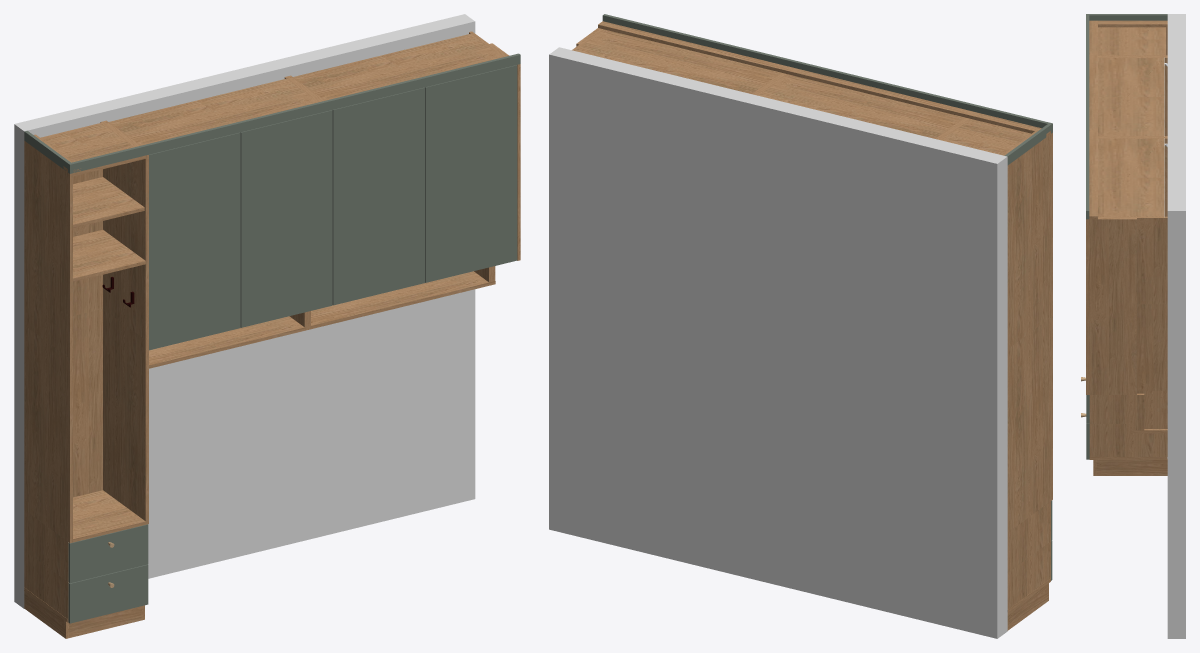
The model's file is AGYSZEK.glb.
3 renders of one model, left to right at view 1: azimuth 30°, elevation 25°; view 2: azimuth 150°, elevation 25°; view 3: azimuth 270°, elevation 25°, orthographic. The views are drawn at different scales.
Parts seen in each view (by area): view 1: 3DGeom-1, 3DGeom-55, 3DGeom-53, 3DGeom-16, 3DGeom-18, 3DGeom-107, 3DGeom-109, 3DGeom-115, 3DGeom-46, 3DGeom-8, 3DGeom-154, 3DGeom-78 (+14 smaller); view 2: 3DGeom-1, 3DGeom-107, 3DGeom-46, 3DGeom-8, 3DGeom-152, 3DGeom-154, 3DGeom-78, 3DGeom-113, 3DGeom-161; view 3: 3DGeom-1, 3DGeom-151, 3DGeom-42, 3DGeom-46, 3DGeom-8, 3DGeom-80, 3DGeom-113, 3DGeom-152, 3DGeom-162, 3DGeom-145, 3DGeom-154, 3DGeom-156 (+5 smaller).
Boxes of the visible parts, x1=… form: 3DGeom-1: x1=14, y1=14, x2=475, y2=608; 3DGeom-55: x1=425, y1=65, x2=517, y2=282; 3DGeom-53: x1=333, y1=88, x2=424, y2=305; 3DGeom-16: x1=149, y1=133, x2=240, y2=350; 3DGeom-18: x1=241, y1=110, x2=332, y2=327; 3DGeom-107: x1=24, y1=141, x2=69, y2=542; 3DGeom-109: x1=100, y1=121, x2=145, y2=520; 3DGeom-115: x1=73, y1=169, x2=102, y2=497; 3DGeom-46: x1=293, y1=33, x2=502, y2=100; 3DGeom-8: x1=109, y1=78, x2=318, y2=145; 3DGeom-154: x1=68, y1=53, x2=520, y2=173; 3DGeom-78: x1=24, y1=510, x2=67, y2=618; 3DGeom-1: x1=549, y1=47, x2=1007, y2=638; 3DGeom-107: x1=1007, y1=132, x2=1052, y2=532; 3DGeom-46: x1=575, y1=29, x2=780, y2=93; 3DGeom-8: x1=758, y1=74, x2=963, y2=138; 3DGeom-152: x1=598, y1=21, x2=1050, y2=136; 3DGeom-154: x1=602, y1=14, x2=1052, y2=133; 3DGeom-78: x1=1007, y1=501, x2=1050, y2=609; 3DGeom-113: x1=942, y1=119, x2=1030, y2=154; 3DGeom-161: x1=1007, y1=583, x2=1048, y2=630; 3DGeom-1: x1=1167, y1=14, x2=1185, y2=638; 3DGeom-151: x1=1086, y1=218, x2=1136, y2=394; 3DGeom-42: x1=1098, y1=216, x2=1167, y2=390; 3DGeom-46: x1=1098, y1=138, x2=1164, y2=216; 3DGeom-8: x1=1098, y1=58, x2=1164, y2=135; 3DGeom-80: x1=1089, y1=395, x2=1167, y2=456; 3DGeom-113: x1=1098, y1=27, x2=1165, y2=55; 3DGeom-152: x1=1089, y1=20, x2=1097, y2=219; 3DGeom-162: x1=1093, y1=460, x2=1167, y2=475; 3DGeom-145: x1=1137, y1=390, x2=1167, y2=428; 3DGeom-154: x1=1086, y1=14, x2=1089, y2=219; 3DGeom-156: x1=1098, y1=20, x2=1167, y2=27.
Size of the model in its own units: 2.57 by 2.6 by 0.578.
Materials: 15 (7 with a texture image).
